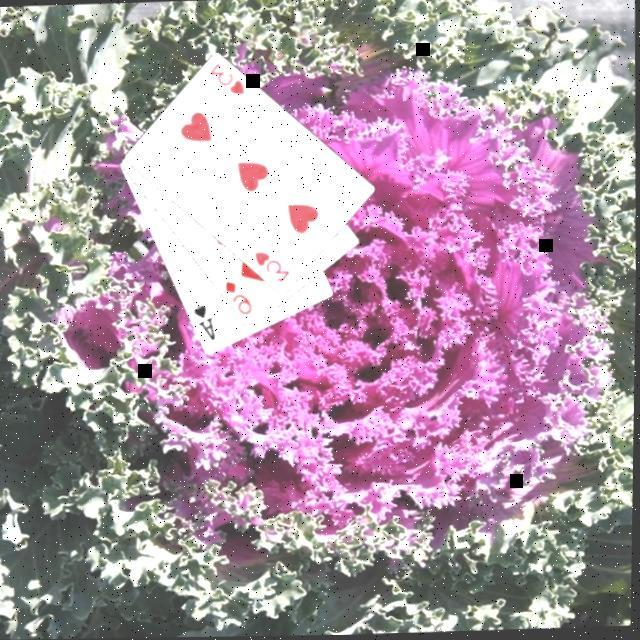3H: (252, 248, 296, 288), (207, 61, 250, 100)
9D: (224, 278, 258, 320)
AS: (192, 303, 221, 345)
